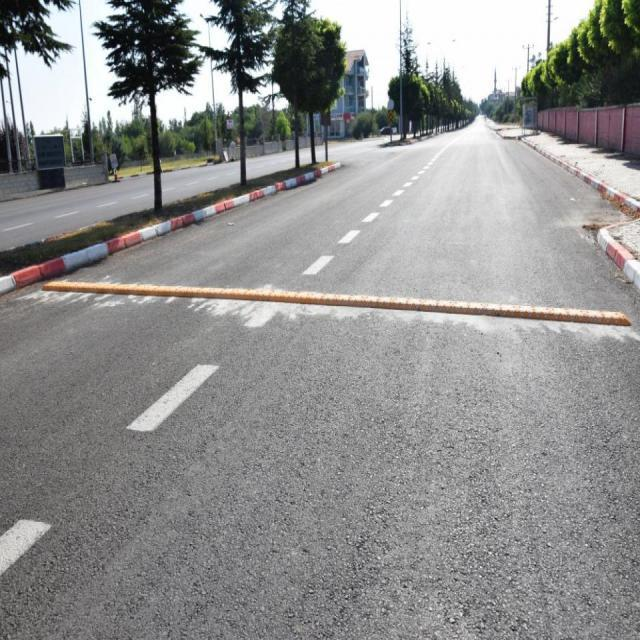speedbreaker: (41, 274, 634, 334)
